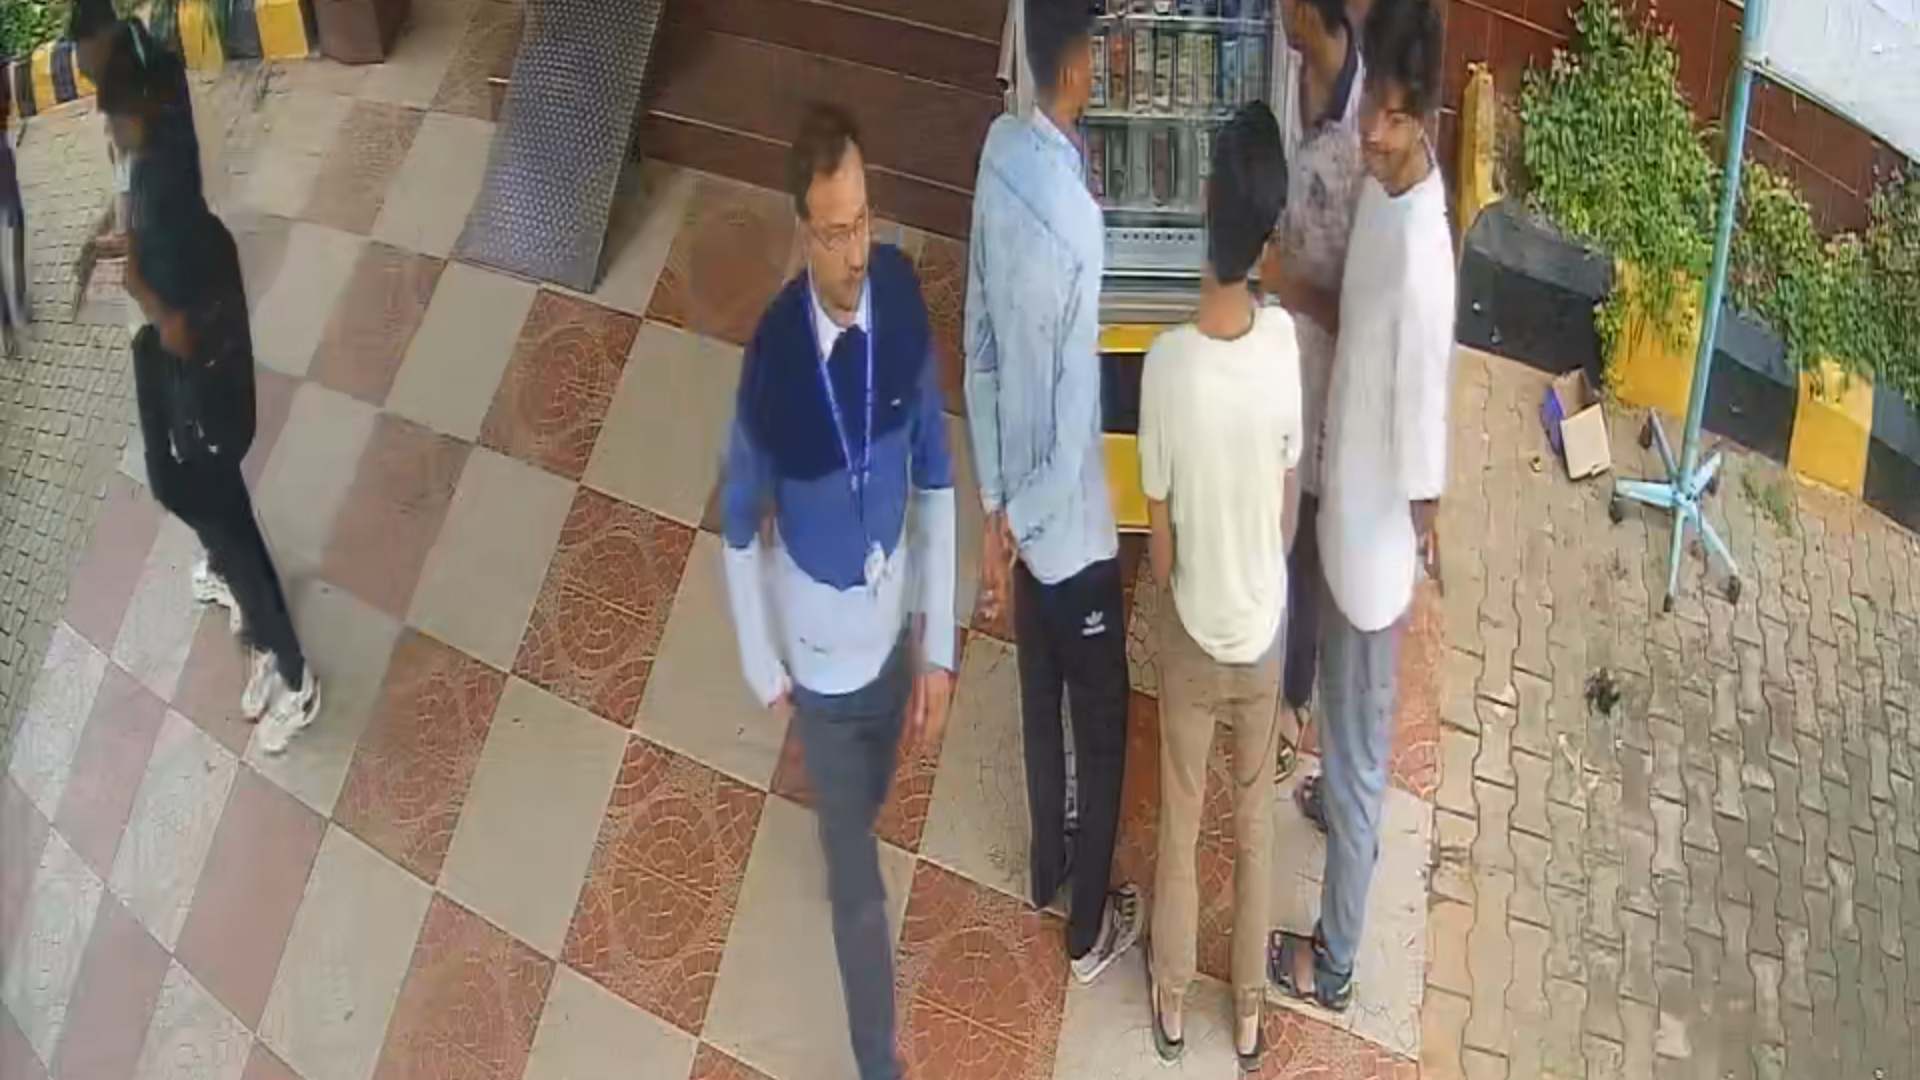not intruder: (736, 113, 949, 1080)
